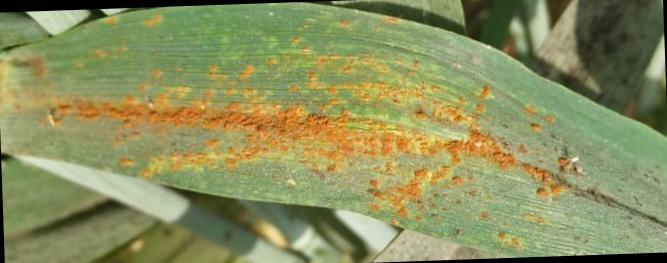Corn: (276, 48, 529, 228), (65, 52, 283, 177)
